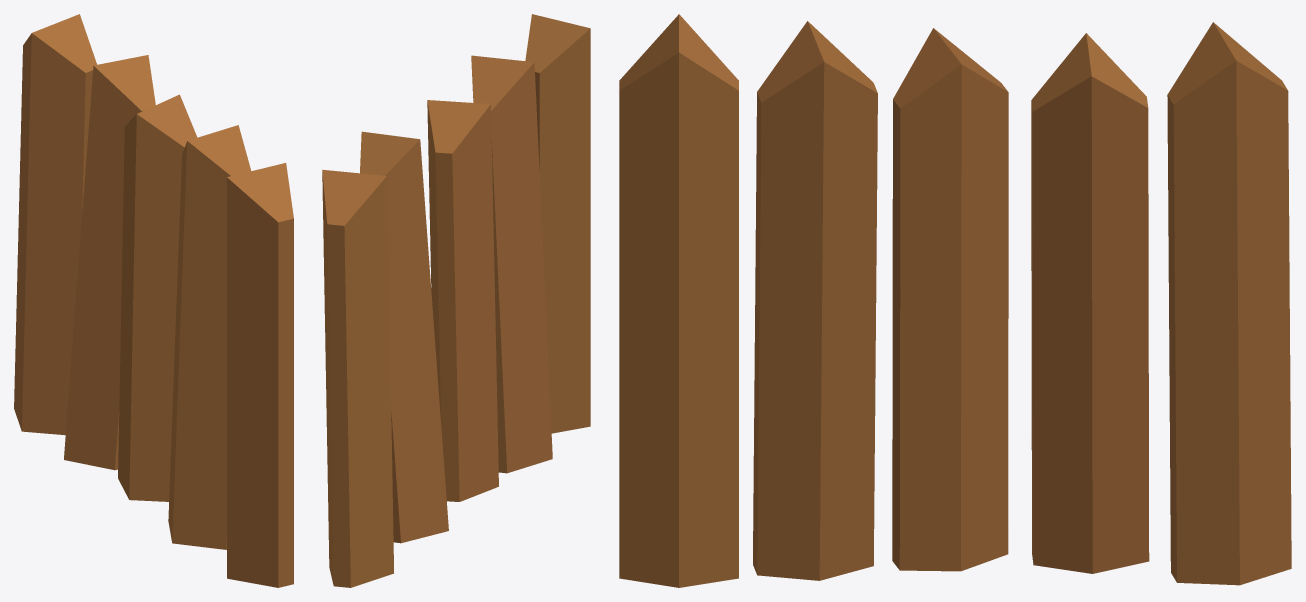
File: Fences.glb
3 renders of one model, left to right at view 1: azimuth 30°, elevation 25°; view 2: azimuth 150°, elevation 25°; view 3: azimuth 270°, elevation 25°, orthographic. The views are drawn at different scales.
Parts seen in each view (by area): view 1: Fences; view 2: Fences; view 3: Fences.
Part boxes in pixels (x1,y1,x2,y2): Fences: (14,14,293,587); Fences: (322,14,590,587); Fences: (619,14,1291,587).
Size of the model in its own units: 0.5693 by 2.54 by 2.88.
Materials: 1 (1 with a texture image).
